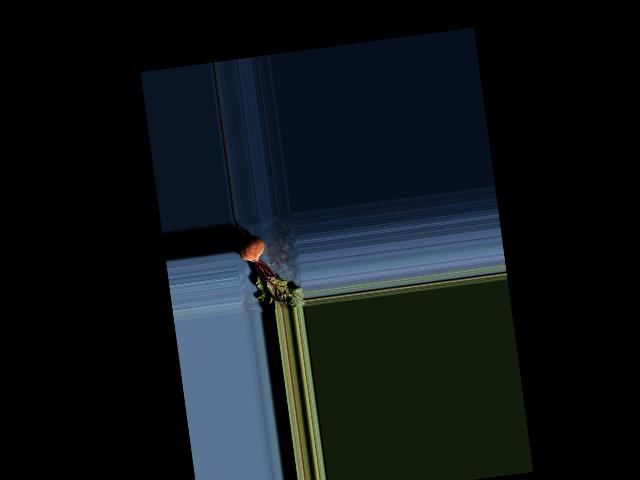beet: (233, 212, 305, 315)
